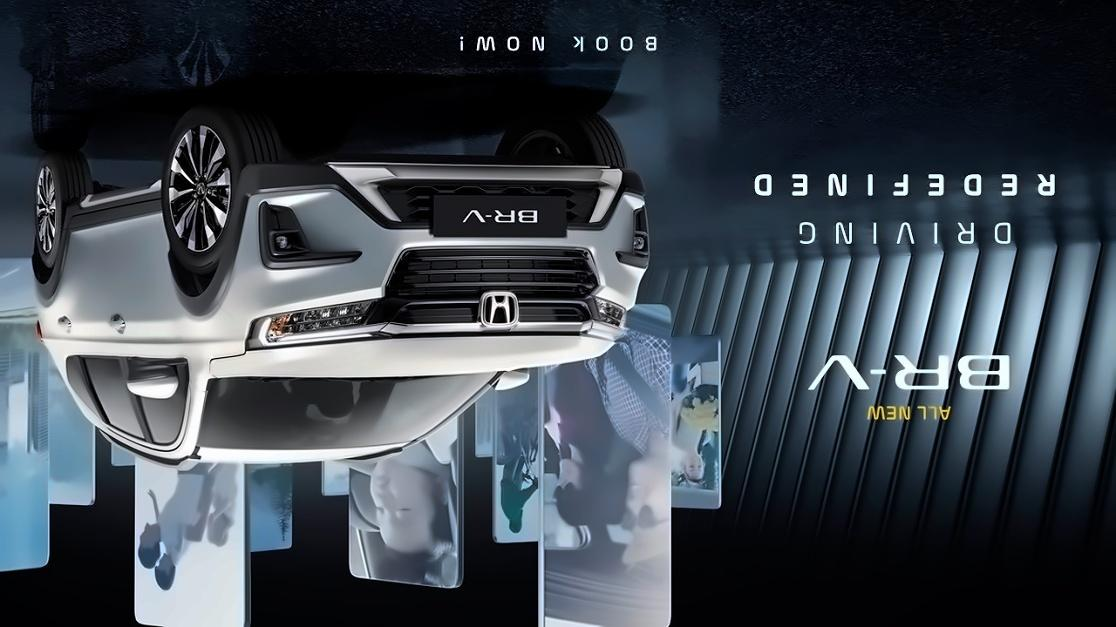Car hood: (208, 335, 621, 380)
Fender - -F-L-: (162, 186, 248, 385)
Fender - -R-L-: (39, 215, 61, 314)
Front bumper: (225, 153, 660, 309)
Headlight - -L-: (242, 298, 384, 356)
Headlight - -R-: (587, 293, 632, 341)
Passenger-s door - -F-L-: (108, 196, 188, 452)
Passenger-s door - -R-L-: (48, 212, 133, 440)
Rear light - -L-: (28, 313, 52, 350)
Side bumper - -L-: (61, 176, 173, 234)
Side mirror - -L-: (124, 360, 183, 406)
Side mirror - -R-: (484, 361, 534, 398)
